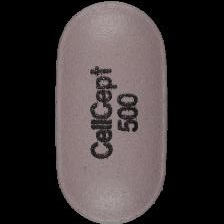49999-937: (0, 0, 224, 224)
